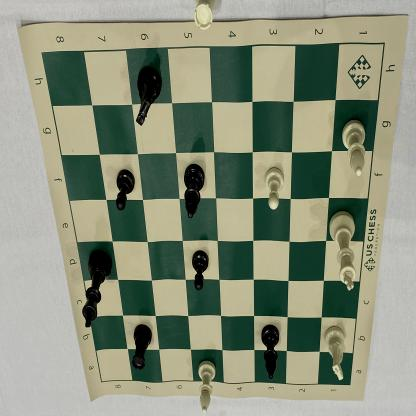black-bishop: (256, 320, 284, 387), (181, 160, 206, 223)
black-king: (79, 248, 116, 334)
black-knight: (129, 61, 164, 129)
black-pawn: (112, 166, 137, 214), (190, 247, 212, 295)
black-rook: (128, 319, 154, 376)
white-bishop: (340, 116, 370, 180), (194, 358, 219, 416)
white-king: (324, 207, 361, 295)
white-knight: (320, 320, 350, 390)
white-pawn: (262, 164, 286, 215)
